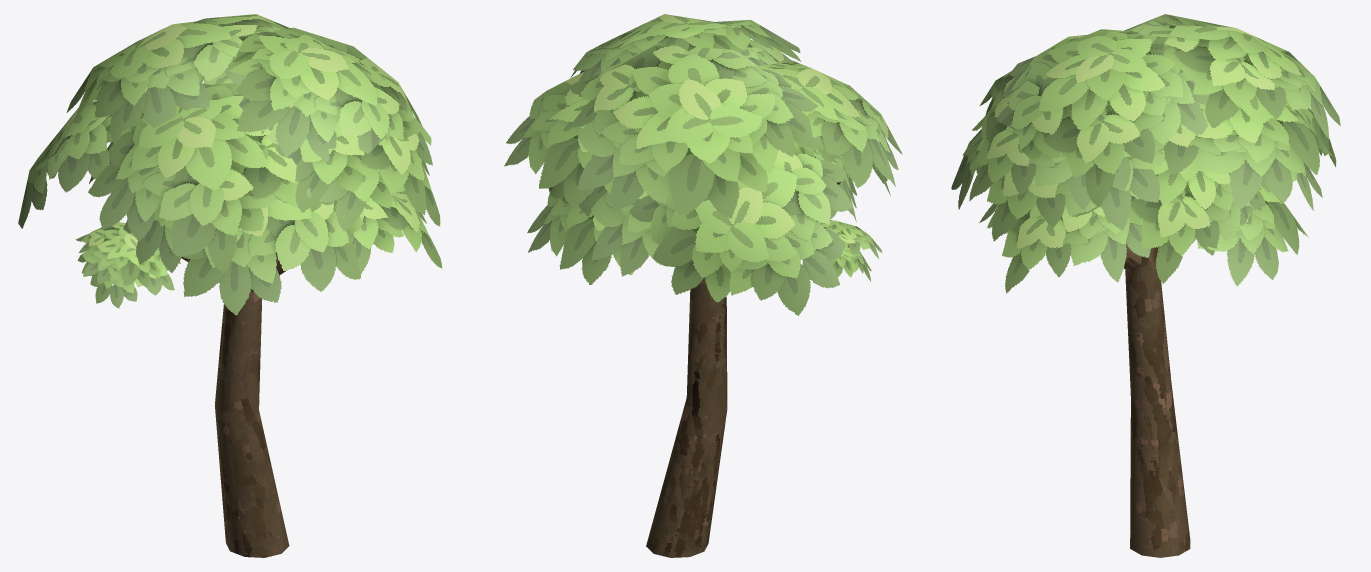
File: tree_tree_1.glb
The picture shows the model from 3 angles, left to right: view 1: azimuth 30°, elevation 25°; view 2: azimuth 150°, elevation 25°; view 3: azimuth 270°, elevation 25°; orthographic projection.
Visible parts, largest first — view 1: Tree_1; view 2: Tree_1; view 3: Tree_1.
Part boxes in pixels (x1=…): Tree_1: x1=18, y1=14, x2=442, y2=557; Tree_1: x1=504, y1=14, x2=902, y2=557; Tree_1: x1=951, y1=14, x2=1340, y2=557.
Bounding box in the file's own units: 4.85 × 6.5 × 4.84.
Materials: 2 (2 with a texture image).
